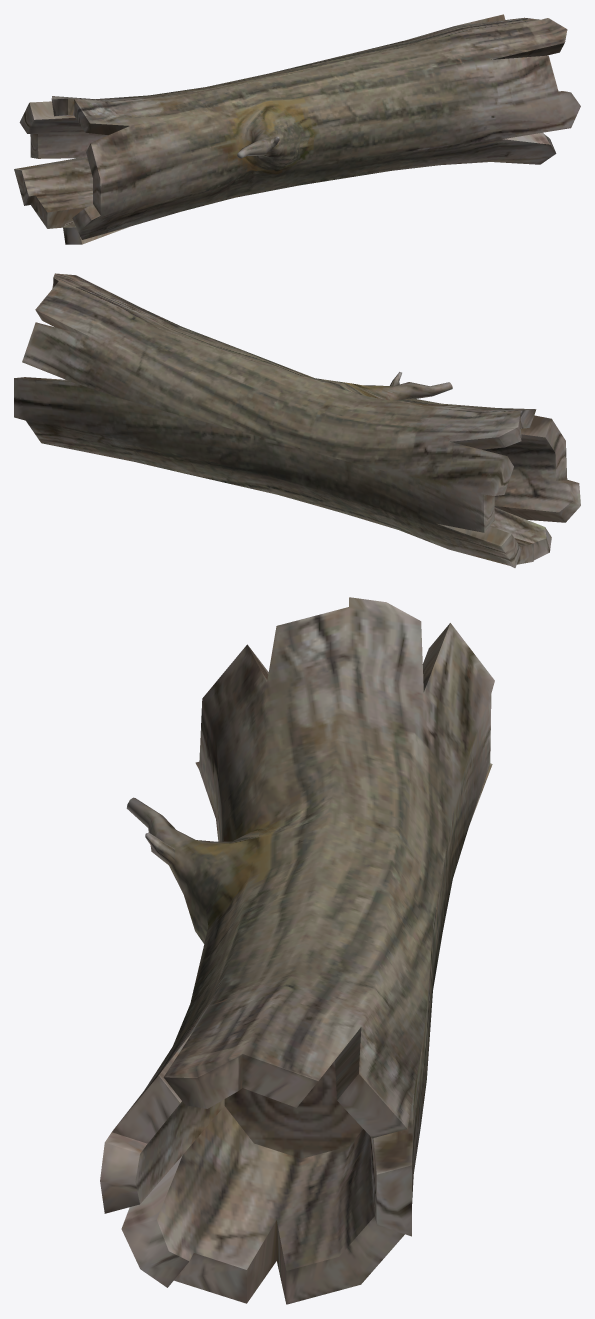
Rendered from Forest_TreeStump02.fbx.
3 views of the same model, one above another, from view 1: azimuth 30°, elevation 25°; view 2: azimuth 150°, elevation 25°; view 3: azimuth 270°, elevation 25° (orthographic). The views are drawn at different scales.
Visible parts, largest first — view 1: ItemBox_TreeStump_02; view 2: ItemBox_TreeStump_02; view 3: ItemBox_TreeStump_02.
Part boxes in pixels (box(x1,y1,x2,y2)): ItemBox_TreeStump_02: box(14, 14, 580, 244); ItemBox_TreeStump_02: box(14, 273, 580, 567); ItemBox_TreeStump_02: box(100, 597, 494, 1304).
Bounding box in the file's own units: 361 × 105 × 128.
1 material, 1 textured.
